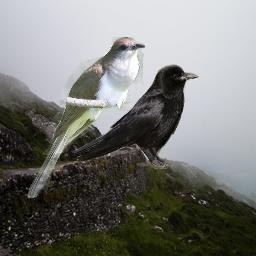Crow: (71, 64, 199, 169)
Cuckoo: (26, 37, 145, 199)
